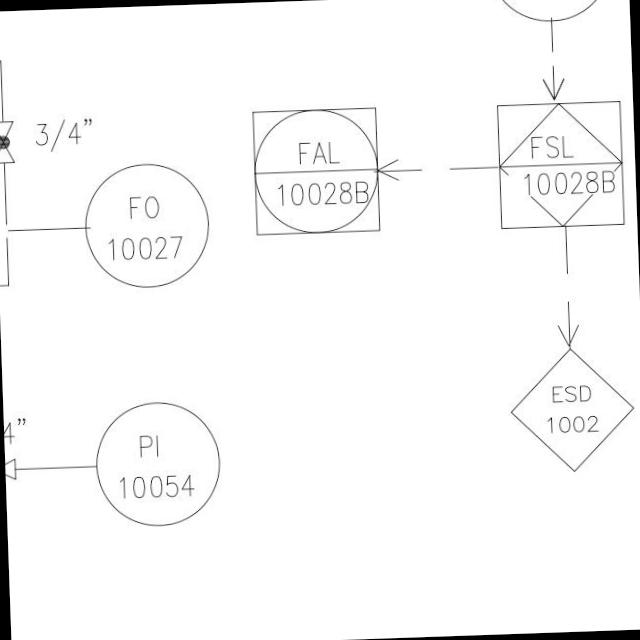BV2: (0, 117, 18, 167)
